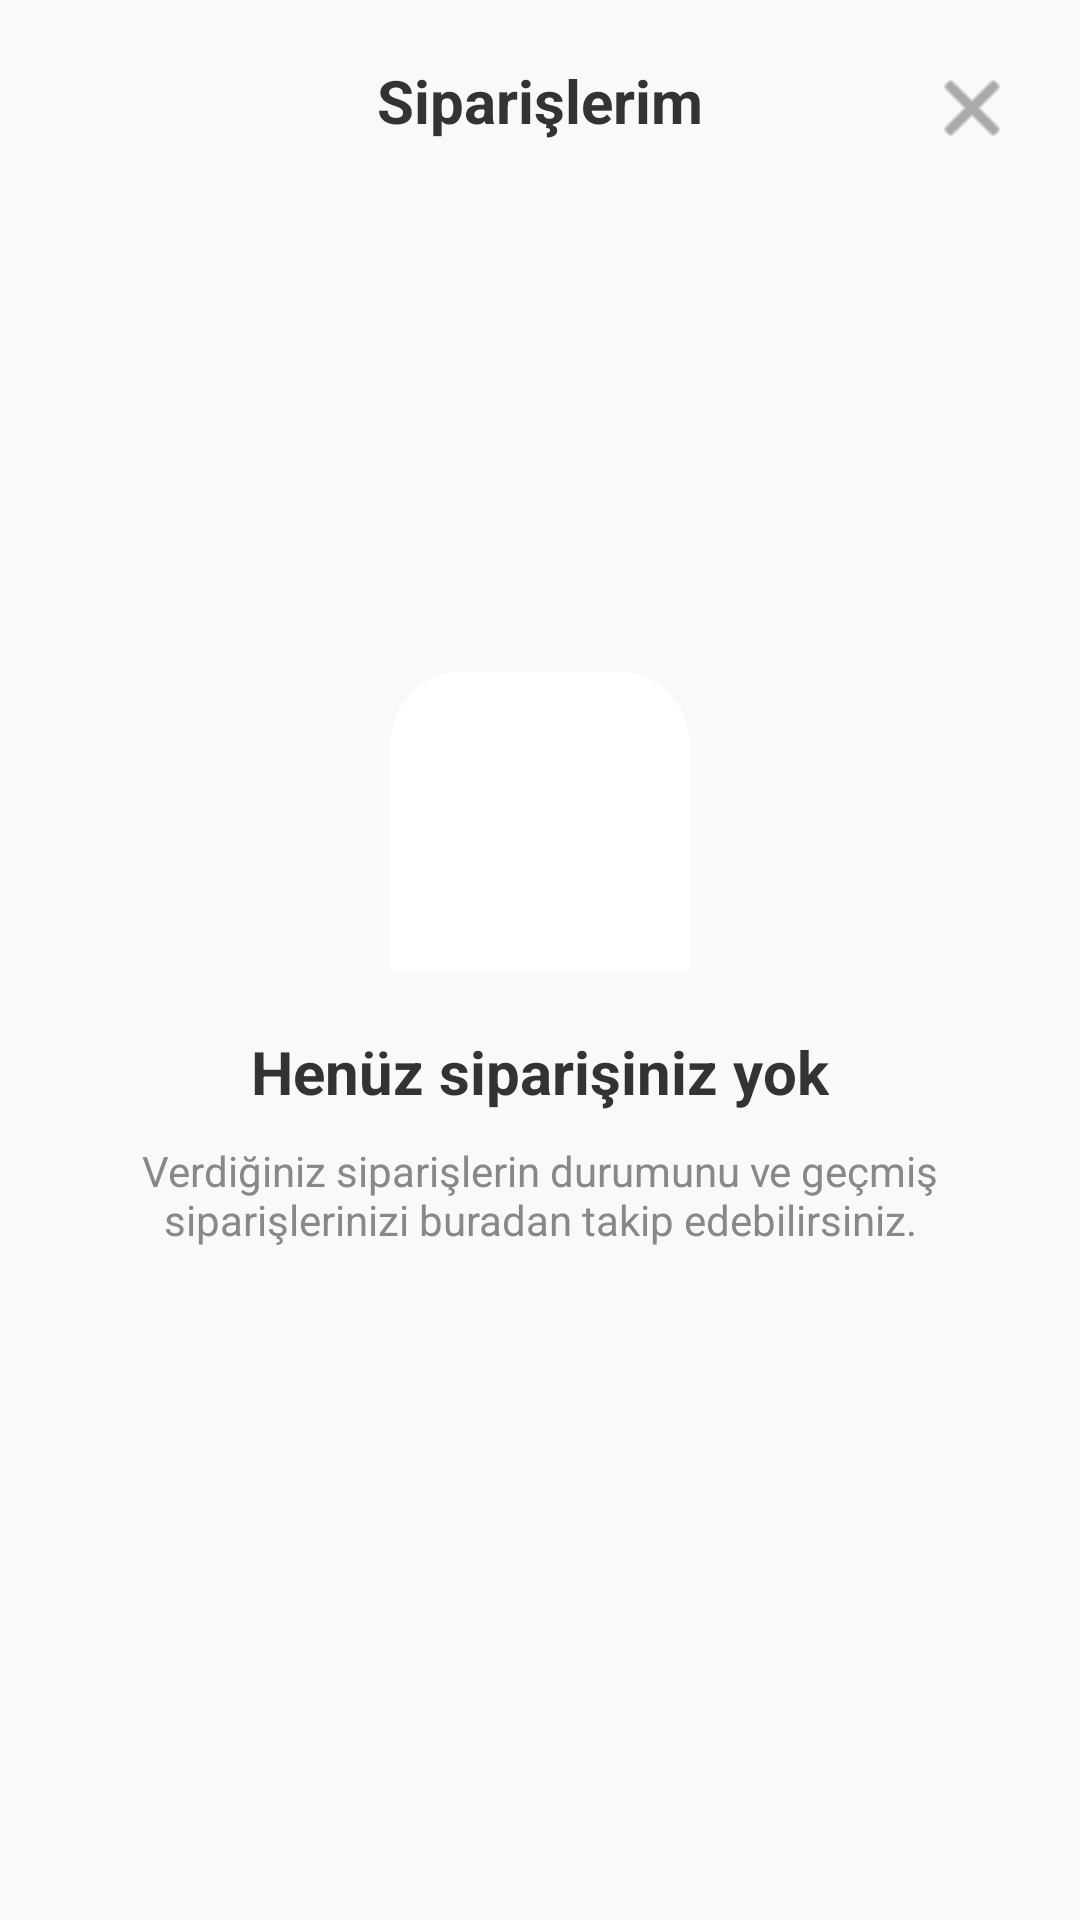

Point at icon controls on the screen. Image size 1080 x 1920, points as (x,y).
close clear cancel: (972,108)
